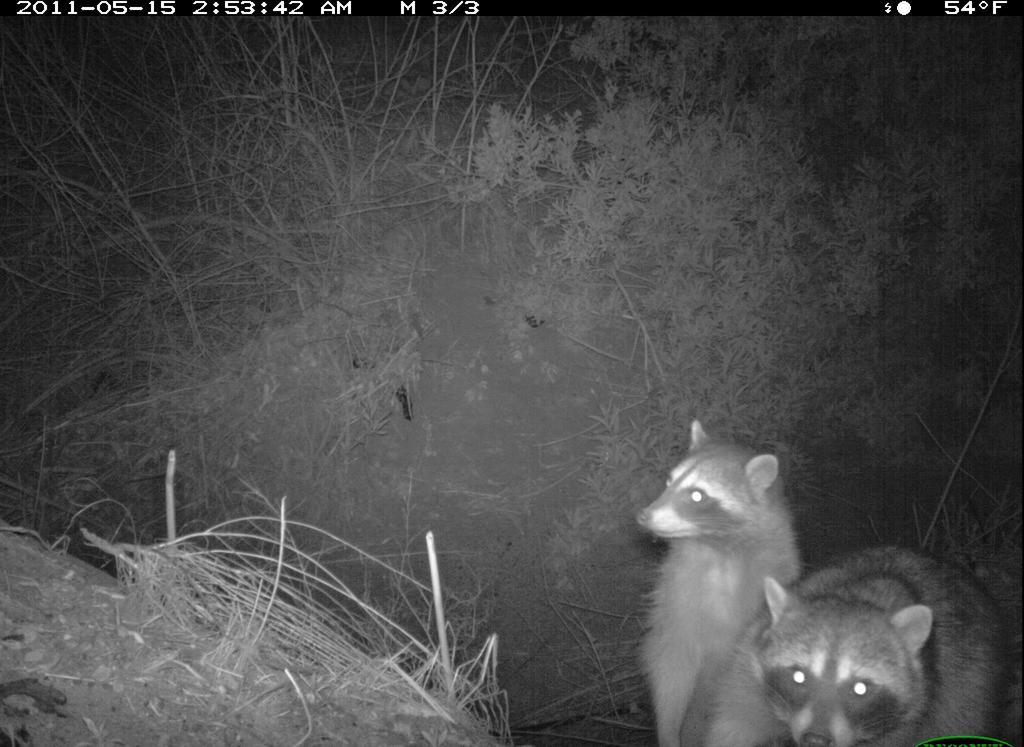raccoon: (624, 409, 818, 745), (726, 541, 1012, 745)
